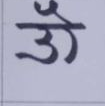au_matra: (47, 0, 80, 59)
